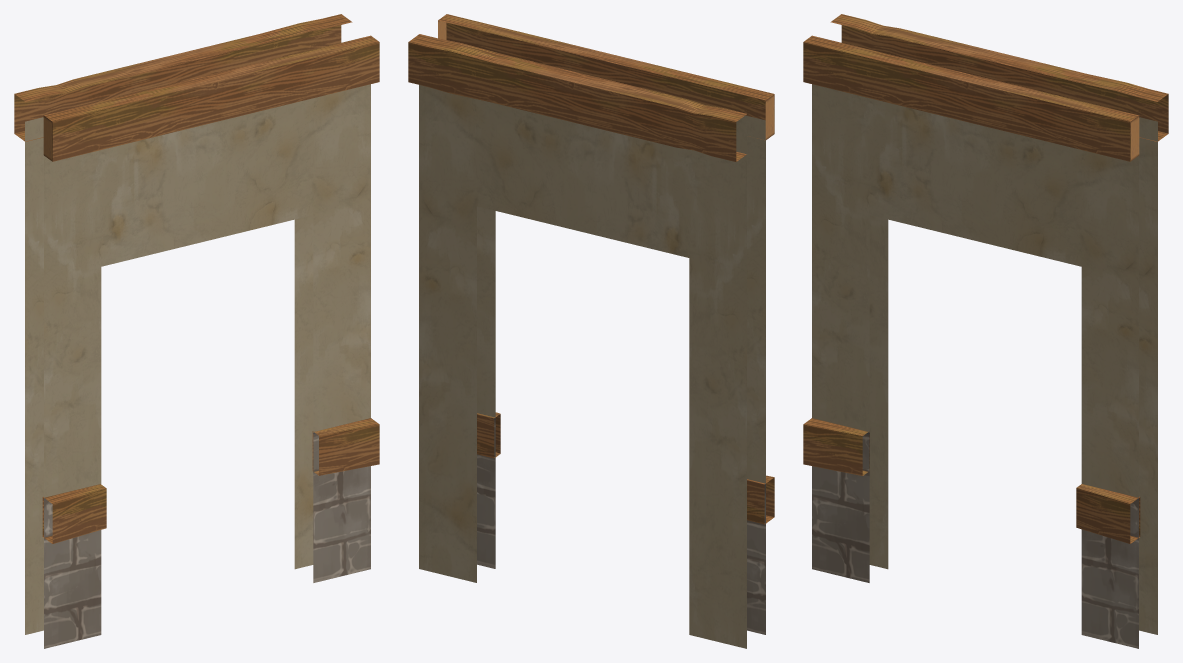
Rendered from Wall_Plaster_Door_Flat.gltf.
3 views of the same model, side by side, from view 1: azimuth 30°, elevation 25°; view 2: azimuth 150°, elevation 25°; view 3: azimuth 330°, elevation 25° (orthographic).
Visible parts, largest first — view 1: Wall_Plaster_Door_Flat; view 2: Wall_Plaster_Door_Flat; view 3: Wall_Plaster_Door_Flat.
Part boxes in pixels (<box>): Wall_Plaster_Door_Flat: <box>14,14,379,648</box>; Wall_Plaster_Door_Flat: <box>408,14,774,648</box>; Wall_Plaster_Door_Flat: <box>803,14,1168,648</box>.
Bounding box in the file's own units: 2 × 3.12 × 0.4065.
Materials: 3 (3 with a texture image).
